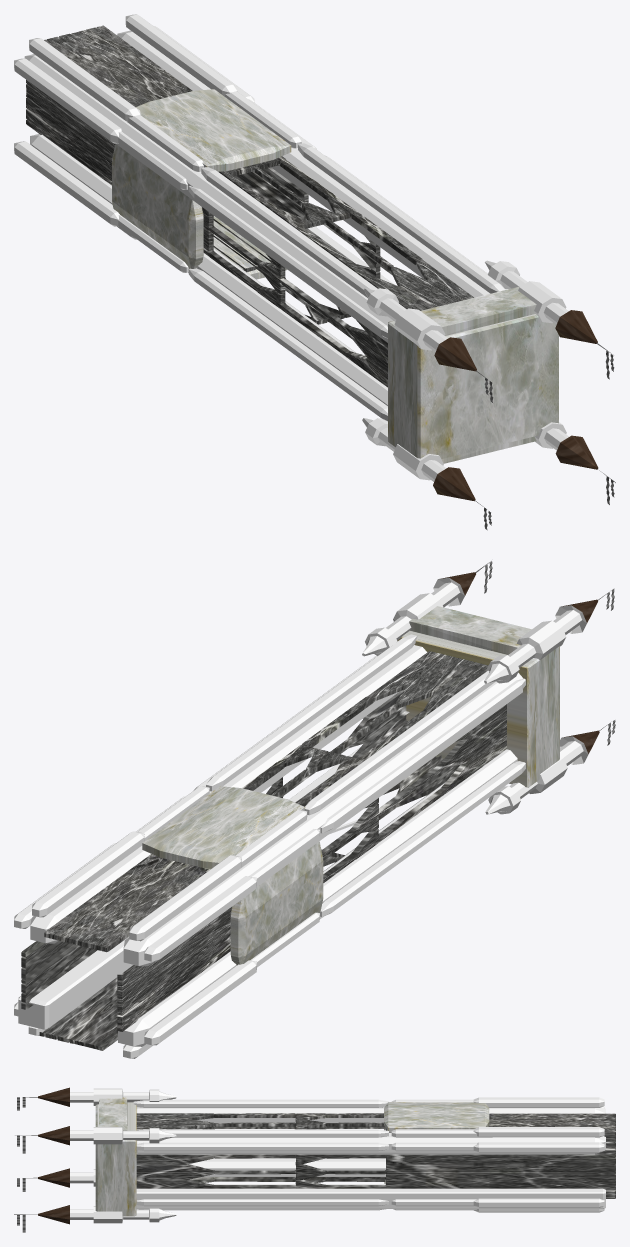
The model's file is tower3.obj.
3 renders of one model, top to bottom at view 1: azimuth 30°, elevation 25°; view 2: azimuth 150°, elevation 25°; view 3: azimuth 270°, elevation 25°, orthographic. The views are drawn at different scales.
Visible parts, largest first — view 1: Object.1; view 2: Object.1; view 3: Object.1.
Boxes of the visible parts, x1,y1,x2,y2 form: Object.1: [14, 14, 615, 530]; Object.1: [14, 561, 615, 1058]; Object.1: [14, 1087, 615, 1232].
Bounding box in the file's own units: 23.52 × 24.75 × 126.
6 materials, 3 textured.
